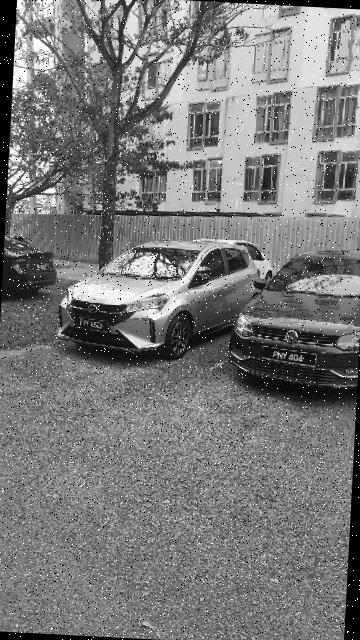License_Plate: (259, 345, 320, 369), (73, 316, 110, 334)
car: (48, 226, 268, 366), (229, 237, 360, 393)
